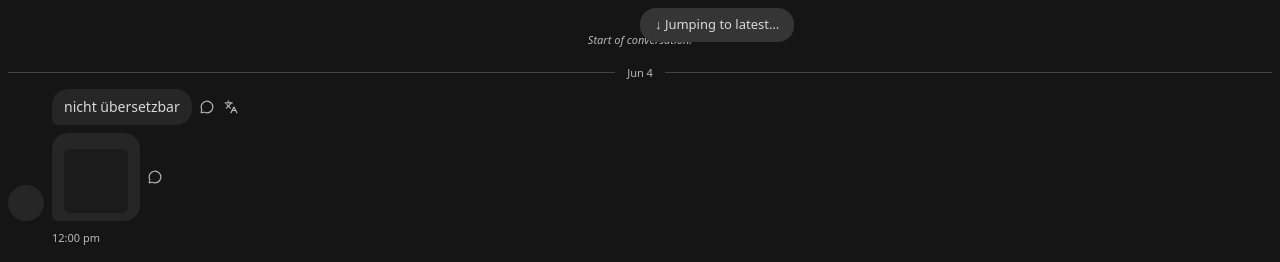
MessageList Bubble action row › a failed translation keeps the original, titled 'No translation available'; a media-only message has no Translate
Step 1. Click the button named "Translate" → (231, 107), box x1=219 y1=95 x2=243 y2=119
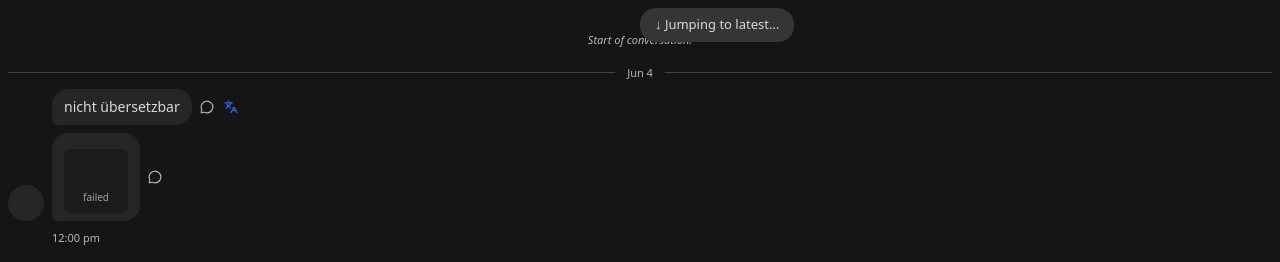
Expected: the element showing "nicht übersetzbar" is shown, x1=52 y1=89 x2=192 y2=125
Now the button titled "No translation available" is shown, box x1=219 y1=95 x2=243 y2=119
